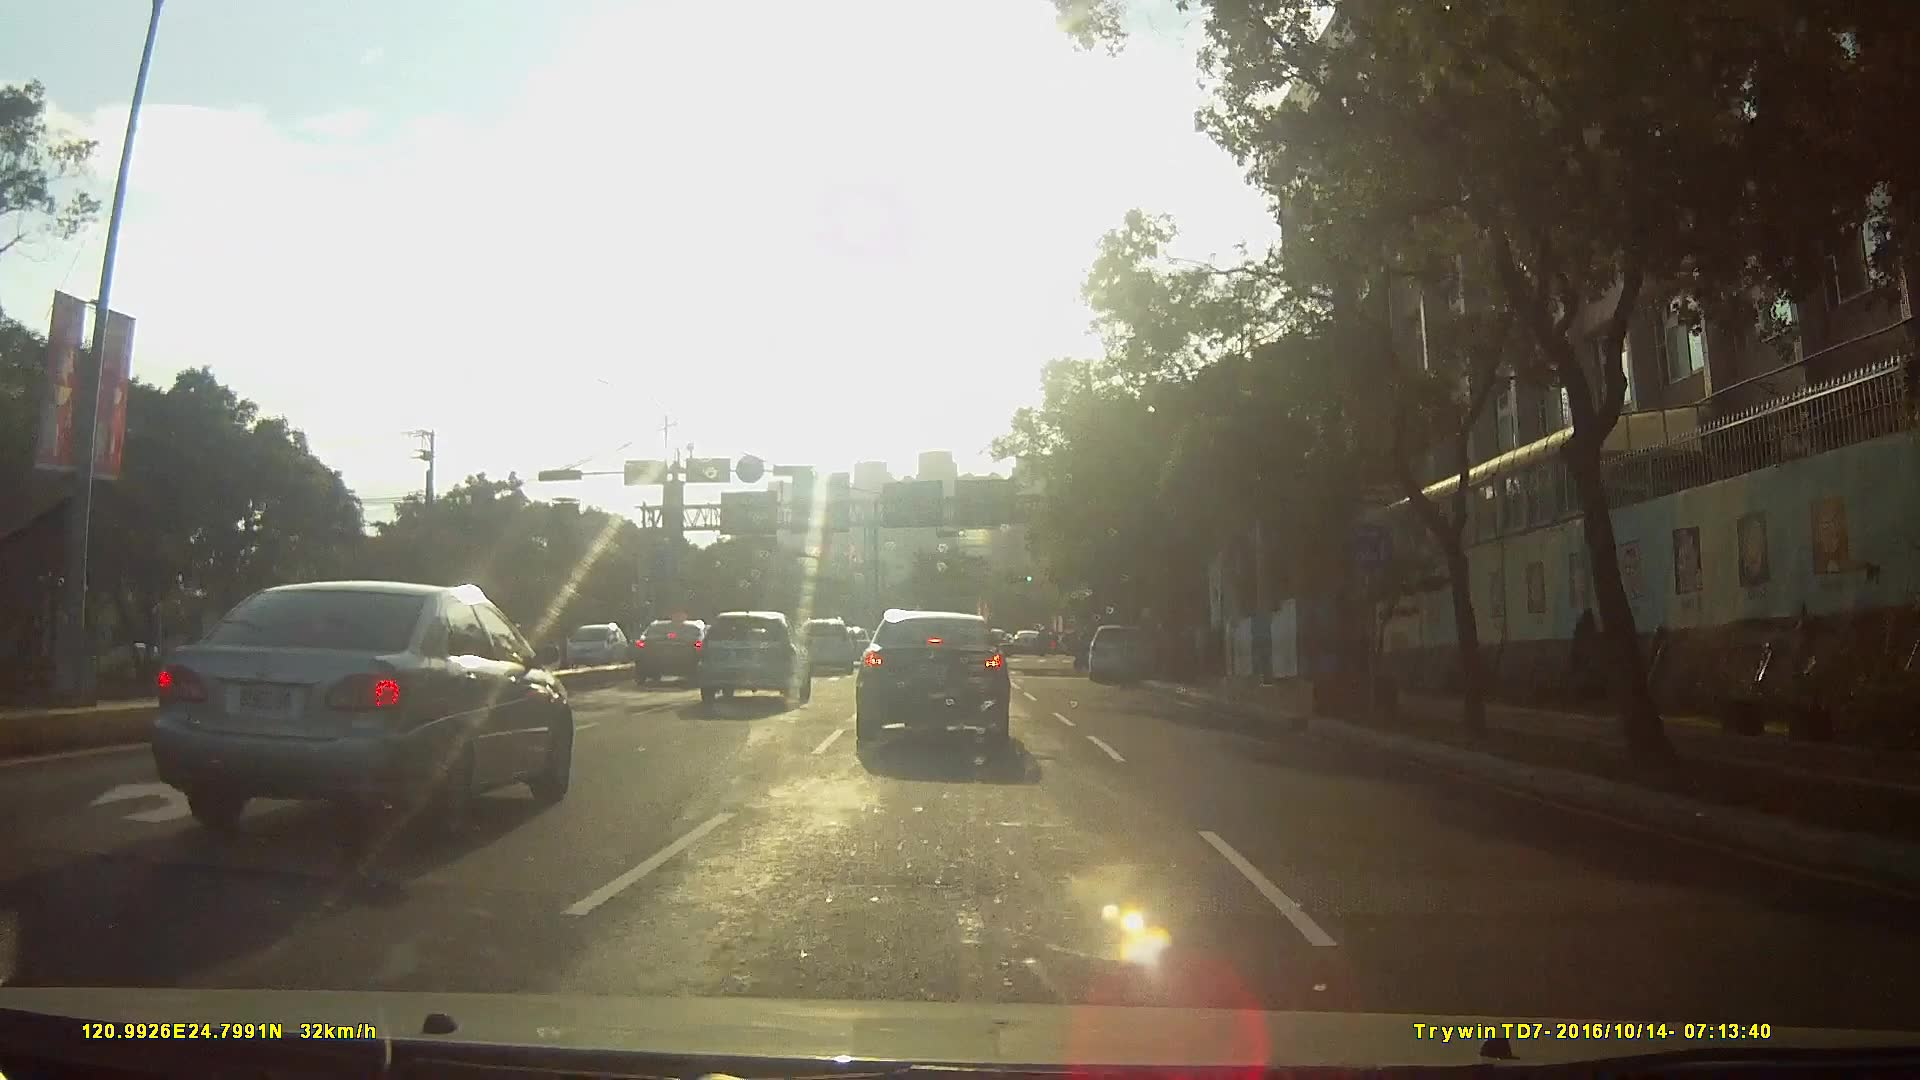vehicle: (129, 567, 580, 853), (851, 607, 1033, 762), (690, 609, 811, 705), (617, 616, 705, 684), (554, 621, 636, 673), (790, 613, 853, 675), (1089, 622, 1156, 680), (1009, 625, 1051, 653)
